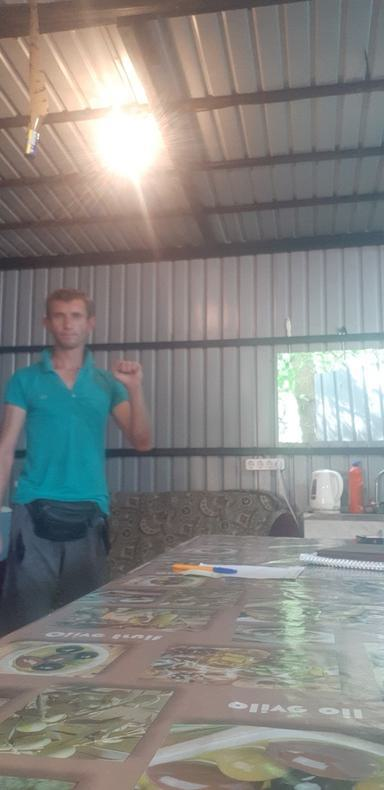fist: (111, 357, 146, 391)
